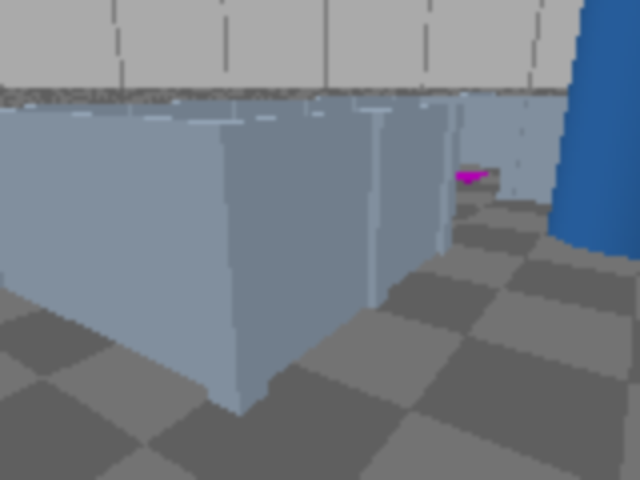person: (548, 0, 638, 256)
